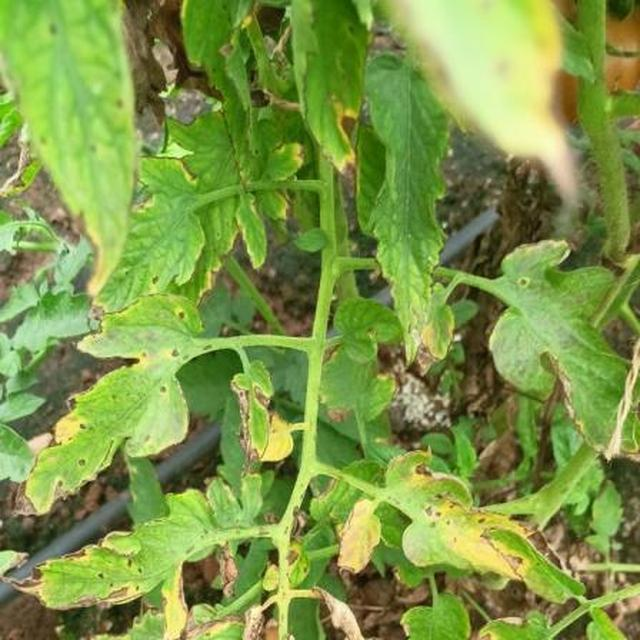Early Blight Leaf: (152, 197, 640, 640)
